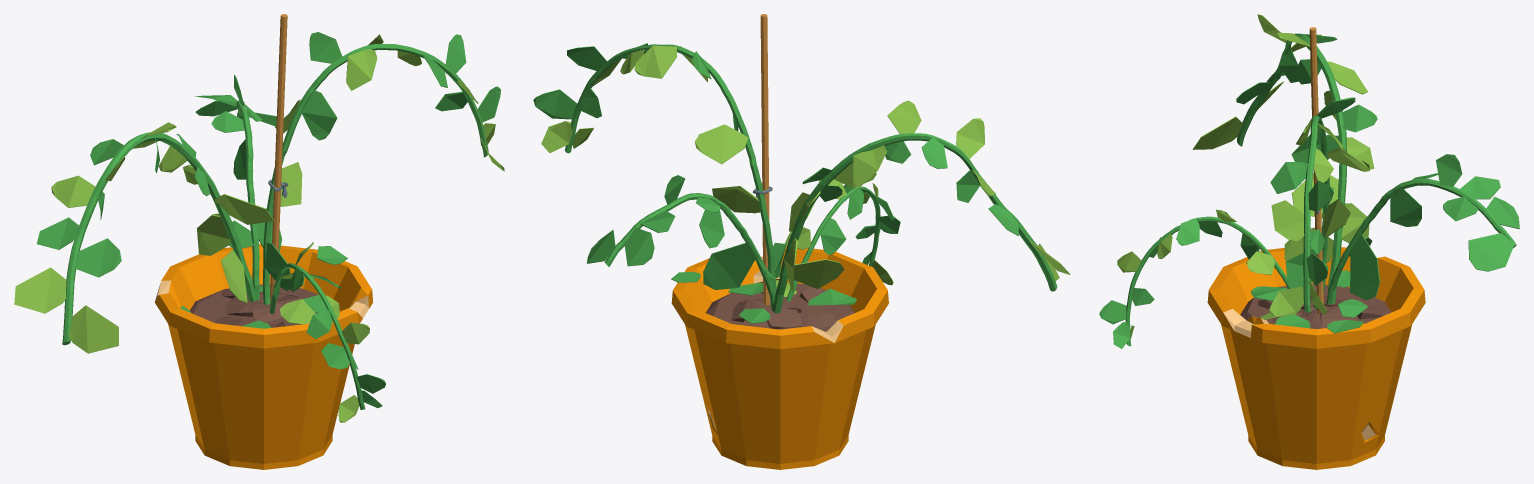
Rendered from Plant.fbx.
The picture shows the model from 3 angles, left to right: view 1: azimuth 30°, elevation 25°; view 2: azimuth 150°, elevation 25°; view 3: azimuth 270°, elevation 25°; orthographic projection.
Parts seen in each view (by area): view 1: group_2079890391, group_1853284154, group_358374076, group_1273900034, group_1611097932, group_1044634114, group_1472007292, group_1826907914, group_1135724752, group_1361910999, group_1236955045, group_637023894 (+7 smaller); view 2: group_2079890391, group_1853284154, group_358374076, group_1273900034, group_1653198649, group_1611097932, group_1826907914, group_1805763839, group_8161187, group_929994347, group_663983943, group_291278784 (+5 smaller); view 3: group_2079890391, group_1853284154, group_358374076, group_1273900034, group_1826907914, group_1653198649, group_2029792314, group_1611097932, group_548037134, group_1472007292, group_1302127778, group_8161187 (+10 smaller).
Boxes of the visible parts, bbox=[...] form: group_2079890391: bbox=[154, 244, 373, 469]; group_1853284154: bbox=[263, 32, 504, 304]; group_358374076: bbox=[269, 242, 385, 422]; group_1273900034: bbox=[62, 132, 255, 345]; group_1611097932: bbox=[270, 14, 287, 302]; group_1044634114: bbox=[14, 267, 66, 313]; group_1472007292: bbox=[68, 305, 118, 353]; group_1826907914: bbox=[236, 100, 259, 300]; group_1135724752: bbox=[75, 238, 121, 277]; group_1361910999: bbox=[197, 213, 231, 255]; group_1236955045: bbox=[51, 175, 95, 207]; group_637023894: bbox=[215, 194, 274, 224]; group_2079890391: bbox=[671, 246, 888, 469]; group_1853284154: bbox=[533, 43, 776, 292]; group_358374076: bbox=[784, 179, 900, 301]; group_1273900034: bbox=[772, 133, 1057, 313]; group_1653198649: bbox=[703, 243, 754, 289]; group_1611097932: bbox=[760, 14, 770, 305]; group_1826907914: bbox=[604, 193, 775, 310]; group_1805763839: bbox=[794, 259, 844, 289]; group_8161187: bbox=[712, 186, 760, 213]; group_929994347: bbox=[624, 227, 654, 266]; group_663983943: bbox=[853, 145, 887, 188]; group_291278784: bbox=[956, 118, 984, 158]; group_2079890391: bbox=[1207, 247, 1425, 469]; group_1853284154: bbox=[1269, 97, 1369, 316]; group_358374076: bbox=[1099, 209, 1289, 348]; group_1273900034: bbox=[1237, 33, 1346, 303]; group_1826907914: bbox=[1326, 179, 1516, 304]; group_1653198649: bbox=[1350, 234, 1379, 300]; group_2029792314: bbox=[1468, 233, 1514, 271]; group_1611097932: bbox=[1309, 27, 1323, 313]; group_548037134: bbox=[1390, 189, 1421, 226]; group_1472007292: bbox=[1193, 116, 1243, 149]; group_1302127778: bbox=[1342, 104, 1377, 132]; group_8161187: bbox=[1322, 199, 1350, 238].
Size of the model in its own units: 336 by 265 by 239.
